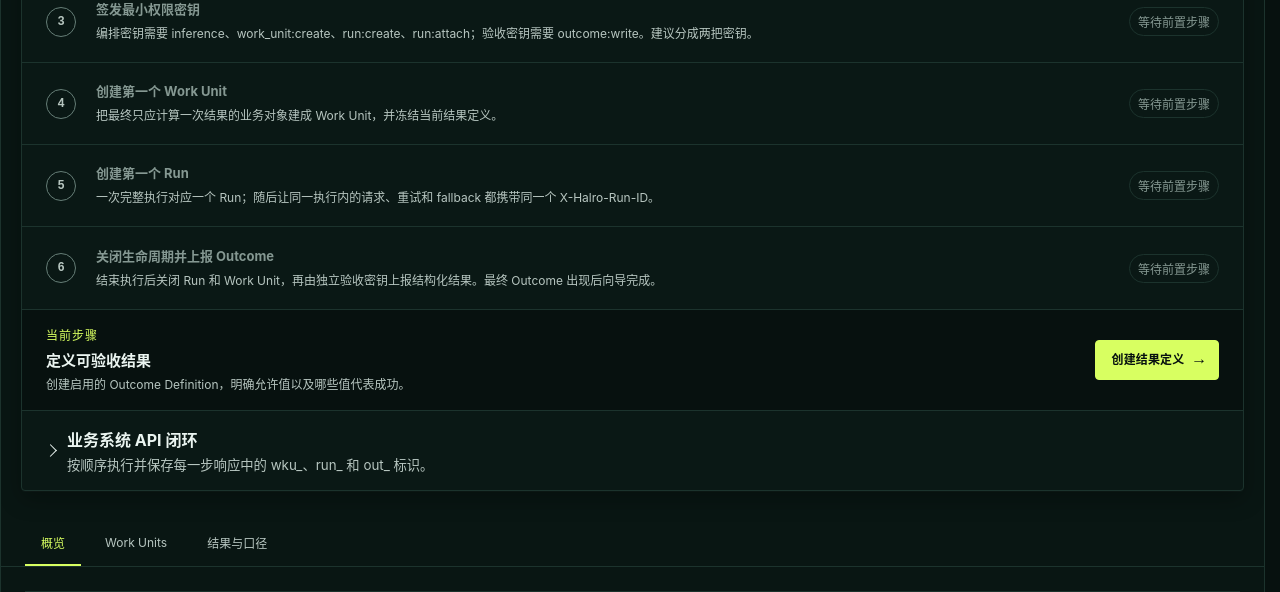
Test: RunGovernancePage › takes the Definition step directly to Definition management
(page scrolled)
What coordinates should you click on to do the following:
click the button "创建结果定义 →"
I would click on:
 (1157, 360)
Its box is [1094, 340, 1219, 380].
(page scrolled)
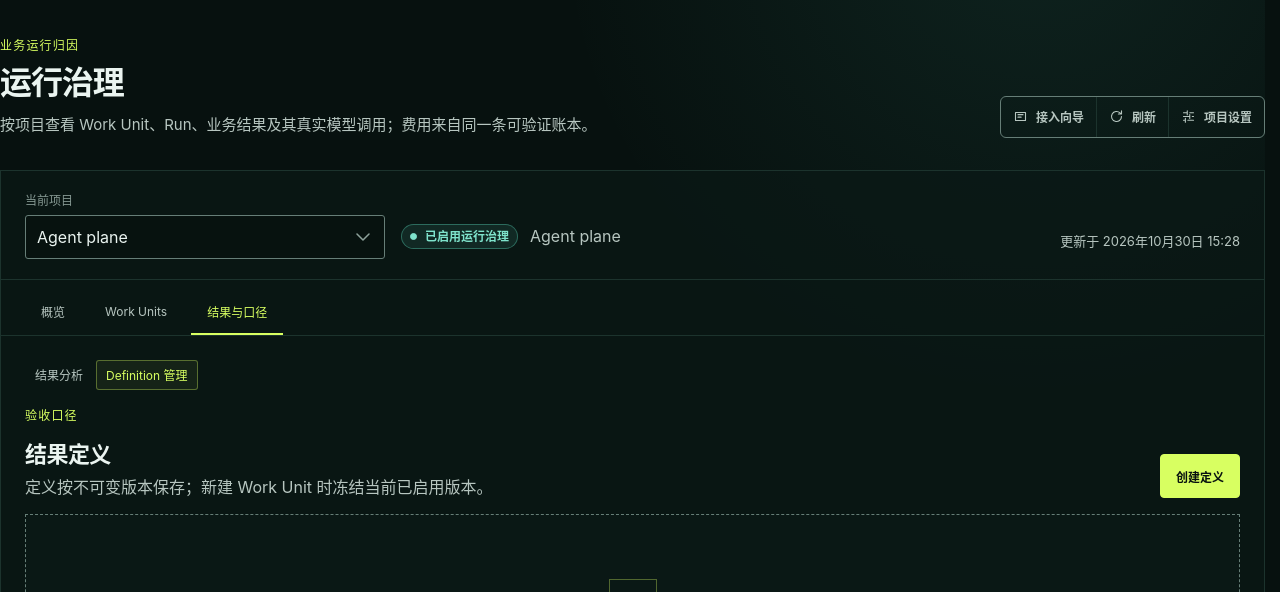
Check: the button "创建定义" is shown, box [1160, 454, 1240, 498]
